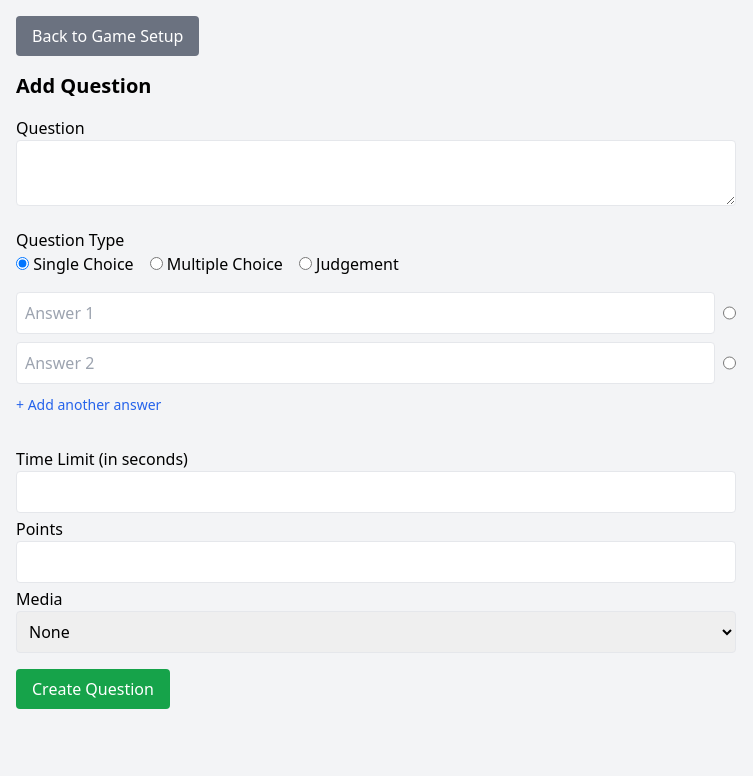
Test: CreateQuestion Component › adds a new answer input when "+ Add another answer" is clicked
Click the button "+ Add another answer" at (89,405), box top-left (16, 395), bottom-right (161, 415)
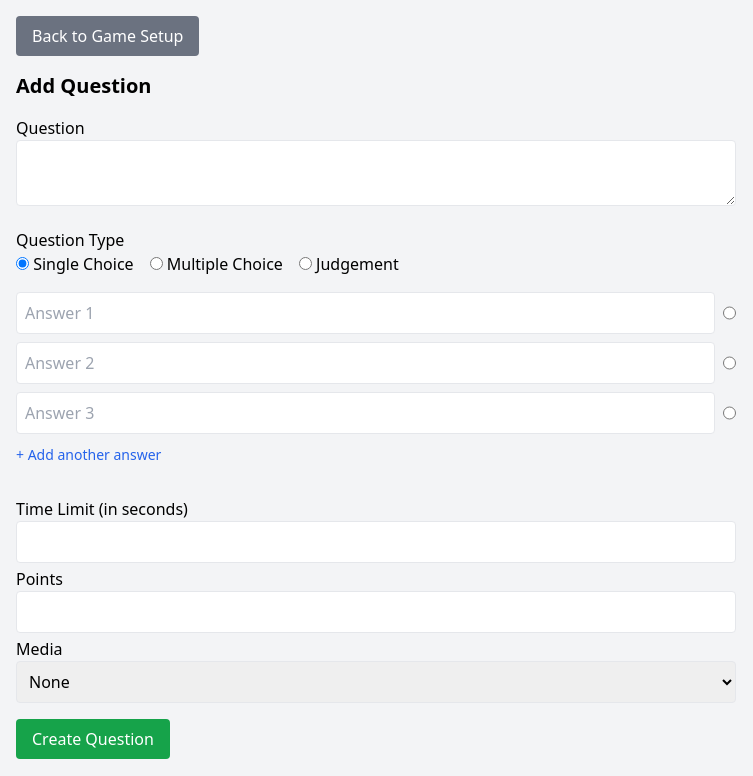
Now the number of fields with placeholder "Answer 1" is 3, box top-left (16, 292), bottom-right (715, 334); top-left (16, 342), bottom-right (715, 384); top-left (16, 392), bottom-right (715, 434)
